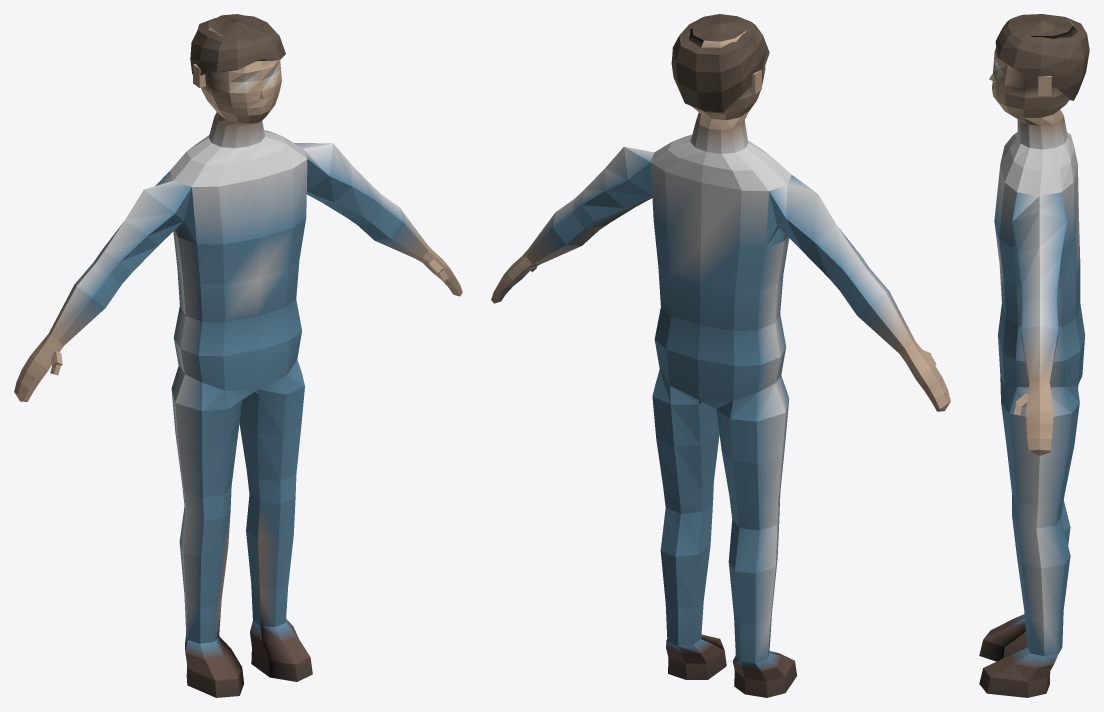
File: char__pessoa__multidao_13.glb
The picture shows the model from 3 angles, left to right: view 1: azimuth 30°, elevation 25°; view 2: azimuth 150°, elevation 25°; view 3: azimuth 270°, elevation 25°; orthographic projection. The views are drawn at different scales.
Visible parts, largest first — view 1: char__pessoa__multidao_13; view 2: char__pessoa__multidao_13; view 3: char__pessoa__multidao_13.
Part boxes in pixels (bbox=[...]): char__pessoa__multidao_13: bbox=[14, 14, 462, 697]; char__pessoa__multidao_13: bbox=[491, 14, 950, 697]; char__pessoa__multidao_13: bbox=[979, 14, 1089, 697].
Bounding box in the file's own units: 1.23 × 1.73 × 0.2648.
